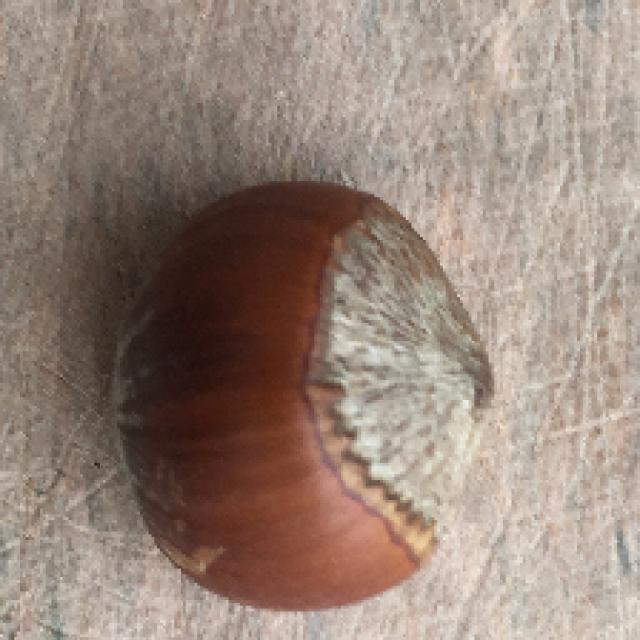damagedHazelnut: (109, 184, 503, 615)
